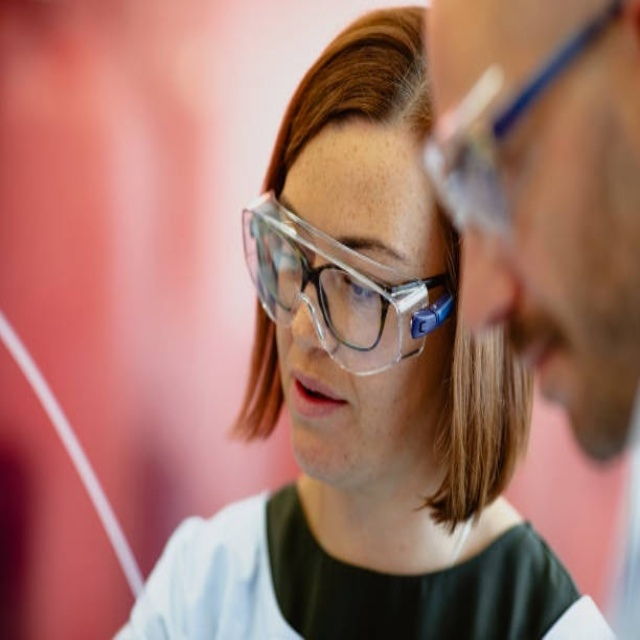Gafas: (419, 2, 640, 248), (242, 195, 454, 374)
Sin_mascara: (500, 306, 625, 463), (279, 356, 366, 472)
